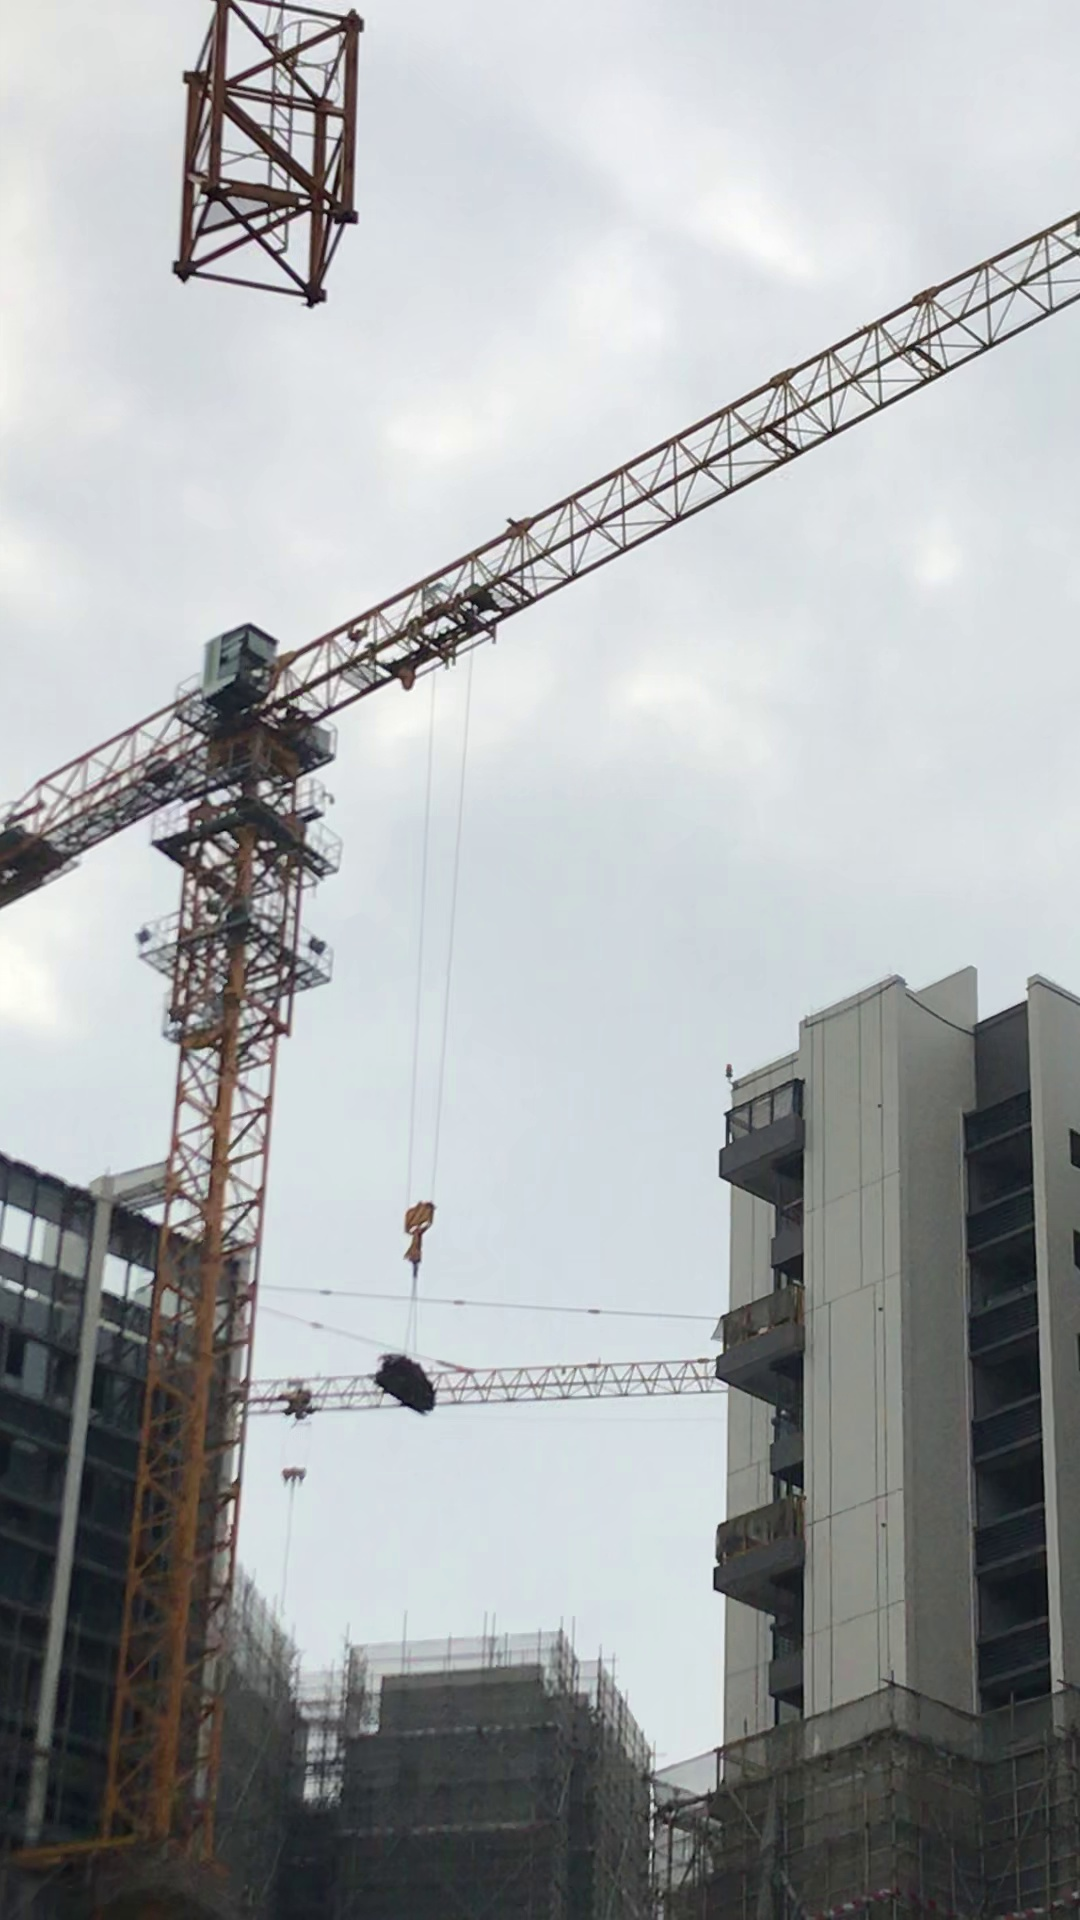board: (372, 1352, 439, 1423)
hook: (402, 1201, 436, 1266), (280, 1466, 309, 1485)
